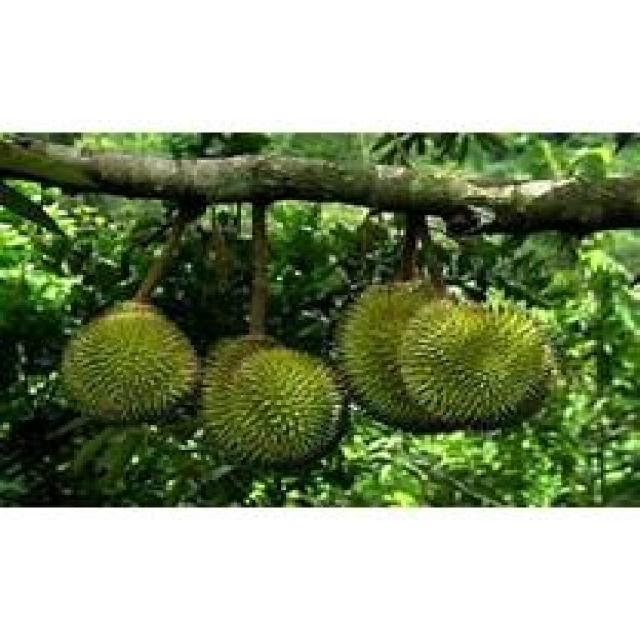fruit: (311, 260, 572, 445), (184, 318, 350, 470), (52, 298, 212, 442)
